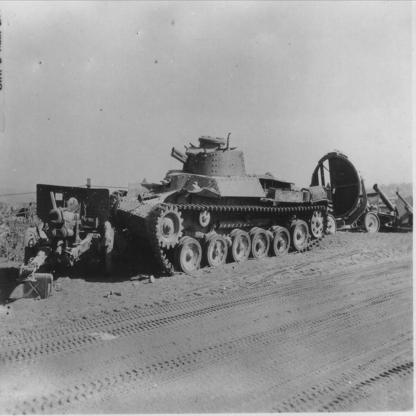Tank: (127, 135, 337, 278)
